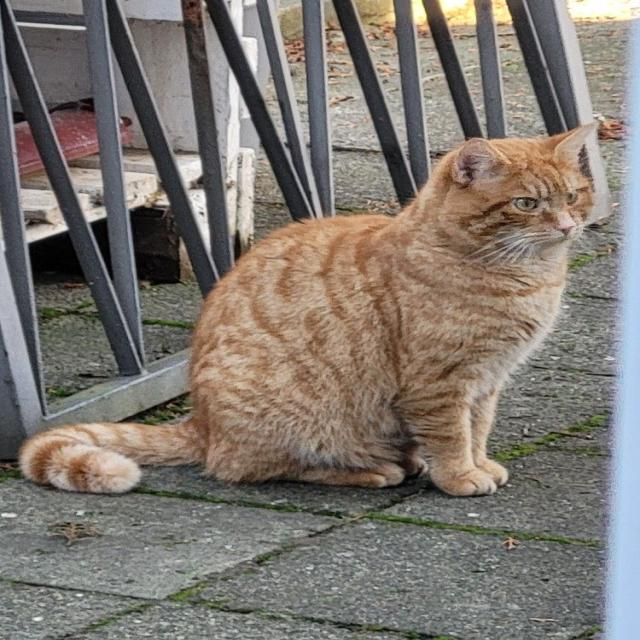sarman: (19, 125, 594, 495)
